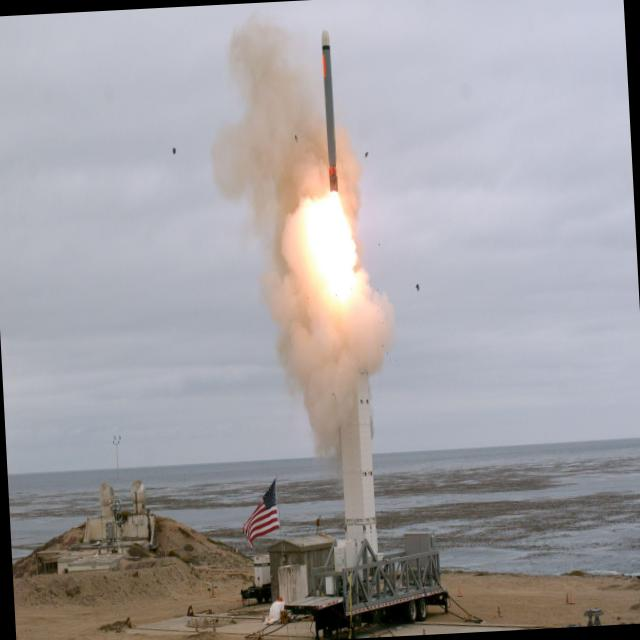rocket: (316, 25, 348, 218)
